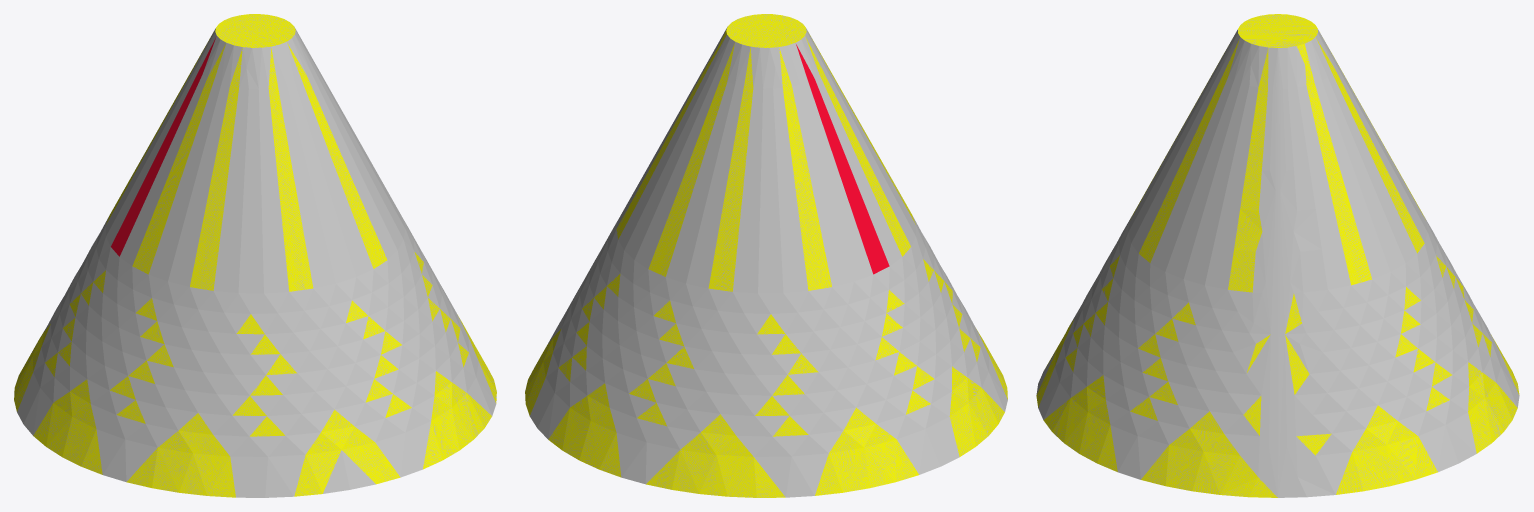
The model's file is simple_fire.dae.
The picture shows the model from 3 angles, left to right: view 1: azimuth 30°, elevation 25°; view 2: azimuth 150°, elevation 25°; view 3: azimuth 270°, elevation 25°; orthographic projection.
Parts seen in each view (by area): view 1: SketchUp (×11), group_0; view 2: SketchUp (×11), group_0; view 3: SketchUp (×10).
Boxes of the visible parts, x1=… form: SketchUp (×11): x1=14, y1=14, x2=496, y2=497; group_0: x1=111, y1=38, x2=215, y2=256; SketchUp (×11): x1=525, y1=14, x2=1007, y2=497; group_0: x1=796, y1=44, x2=889, y2=274; SketchUp (×10): x1=1036, y1=14, x2=1519, y2=497.
Size of the model in its own units: 23.62 by 23.62 by 19.69.
